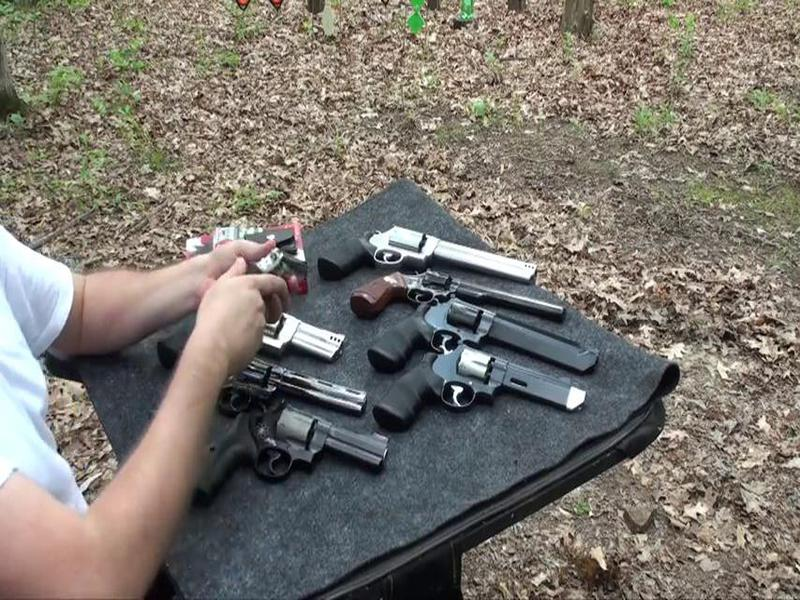Revolver: (186, 252, 343, 314)
